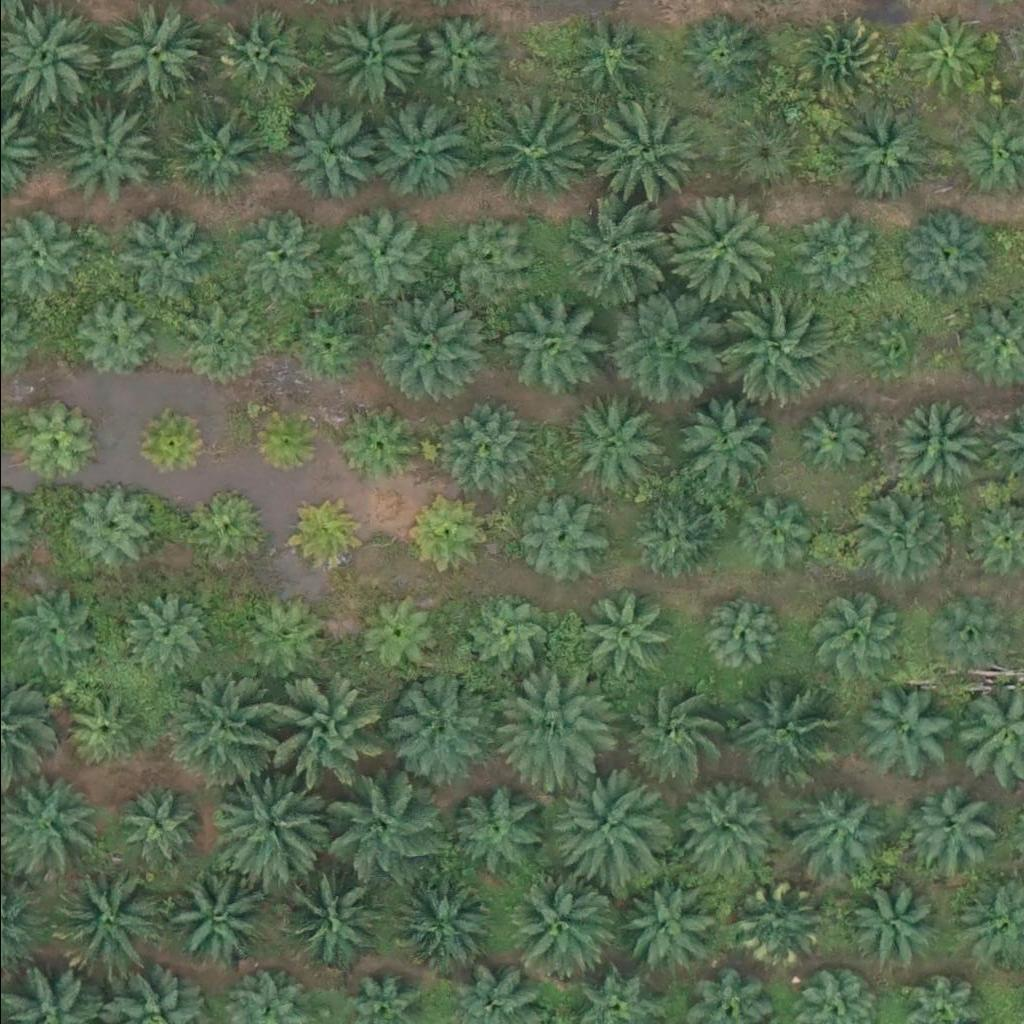Kelapa_Sawit: (267, 859, 381, 972), (582, 93, 696, 206), (49, 860, 162, 973), (322, 776, 435, 889), (164, 675, 277, 788), (606, 288, 719, 401), (496, 289, 609, 402), (373, 290, 486, 403), (560, 199, 673, 312), (664, 195, 777, 308), (469, 89, 582, 202), (544, 775, 658, 887), (259, 681, 373, 793), (720, 676, 834, 788), (715, 295, 829, 407), (499, 872, 612, 984), (217, 771, 330, 883), (386, 668, 499, 780), (501, 668, 614, 780), (614, 672, 727, 784), (57, 102, 158, 202), (164, 871, 265, 971), (613, 877, 714, 977), (452, 776, 553, 876), (852, 688, 953, 788), (568, 587, 669, 687), (852, 482, 953, 582), (564, 391, 665, 491), (892, 209, 993, 309), (835, 101, 936, 201), (365, 98, 466, 198), (282, 103, 383, 203), (109, 3, 210, 103), (165, 102, 266, 202), (113, 209, 214, 309), (317, 5, 418, 105), (387, 872, 487, 972), (671, 771, 771, 871), (886, 396, 986, 496), (670, 390, 770, 490), (789, 14, 889, 114), (694, 589, 783, 677), (56, 683, 144, 771), (63, 478, 151, 566), (283, 300, 371, 388), (165, 300, 253, 388), (905, 781, 993, 869), (789, 782, 877, 870), (111, 783, 199, 871), (805, 597, 893, 685), (732, 491, 820, 579), (715, 103, 803, 191), (569, 8, 657, 96), (355, 586, 443, 674), (232, 591, 320, 679), (327, 210, 415, 298), (235, 211, 323, 299), (784, 212, 872, 300), (899, 8, 987, 96), (676, 13, 764, 101), (419, 13, 507, 101), (5, 583, 94, 670), (67, 296, 155, 383), (730, 879, 818, 966), (845, 878, 933, 965), (627, 494, 715, 581), (457, 589, 545, 676), (123, 590, 211, 677), (447, 404, 535, 491), (516, 491, 604, 578), (438, 216, 526, 303), (213, 8, 301, 95), (794, 401, 870, 476), (189, 485, 265, 560), (927, 601, 1003, 676), (9, 402, 85, 477), (136, 407, 212, 482), (285, 500, 361, 575), (344, 410, 419, 485), (247, 402, 322, 477), (408, 500, 483, 575), (863, 312, 926, 374)
